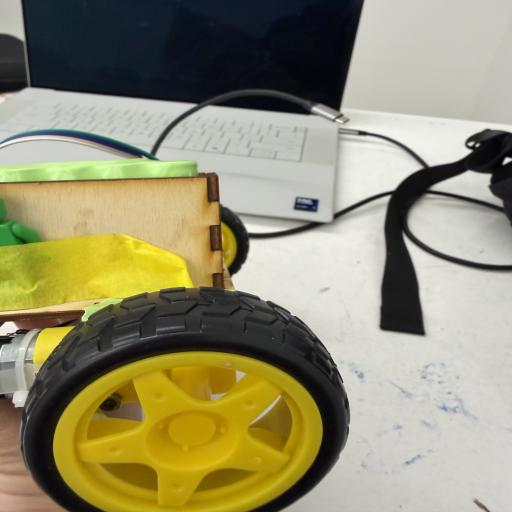Green-Lego: (0, 198, 35, 246)
